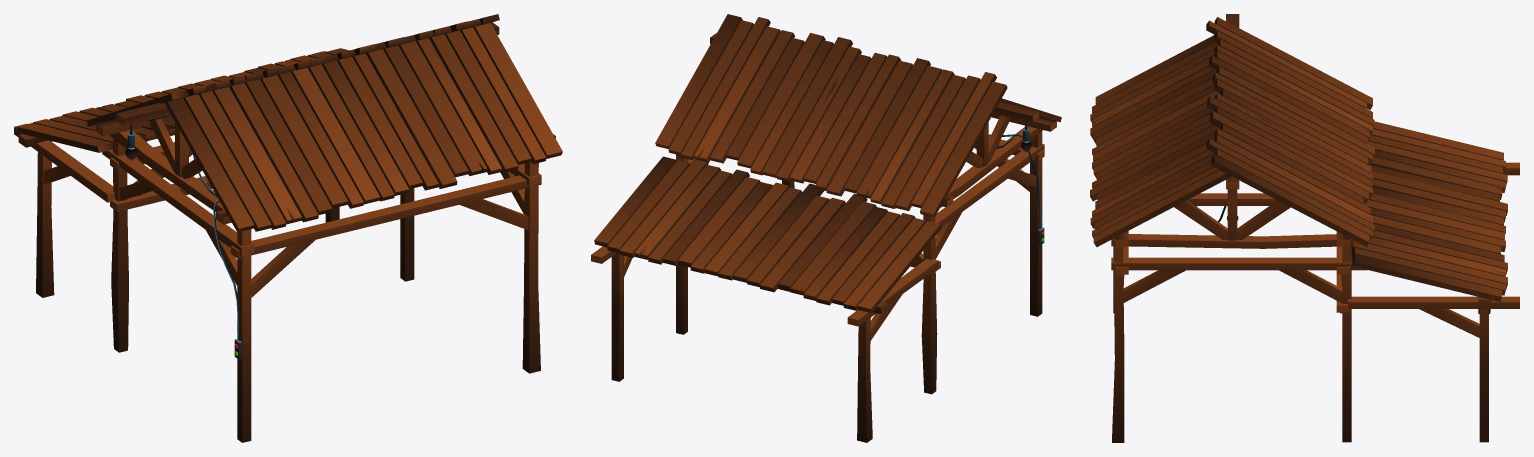
Rendered from Shed_2A.fbx.
3 renders of one model, left to right at view 1: azimuth 30°, elevation 25°; view 2: azimuth 150°, elevation 25°; view 3: azimuth 270°, elevation 25°, orthographic. The views are drawn at different scales.
Parts seen in each view (by area): view 1: Shed_2A; view 2: Shed_2A; view 3: Shed_2A.
Part boxes in pixels (<box>): Shed_2A: <box>14,14,562,442</box>; Shed_2A: <box>591,14,1061,442</box>; Shed_2A: <box>1090,14,1519,442</box>.
Size of the model in its own units: 1045 by 840 by 1127.
